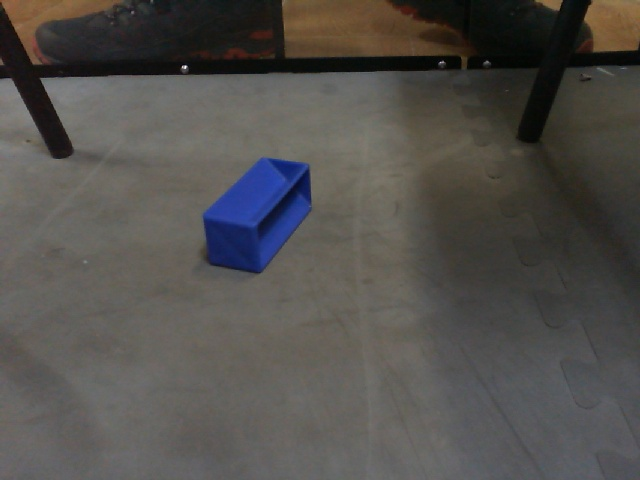BlueSample: (194, 154, 317, 275)
